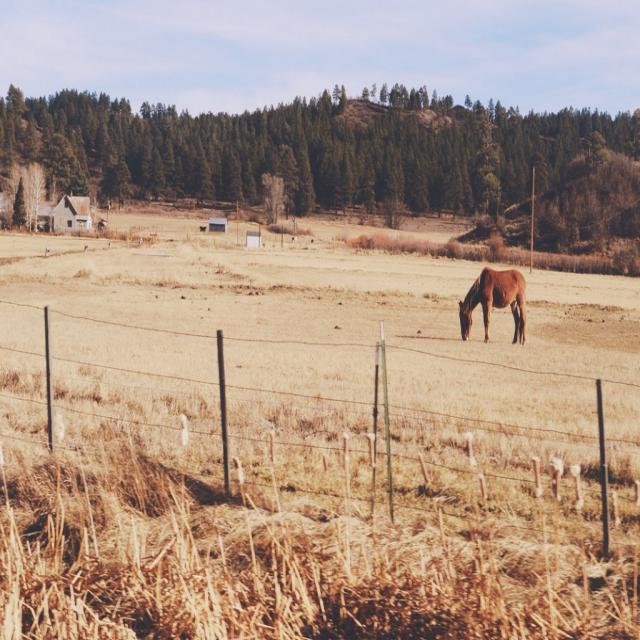Horse: (458, 270, 528, 348)
